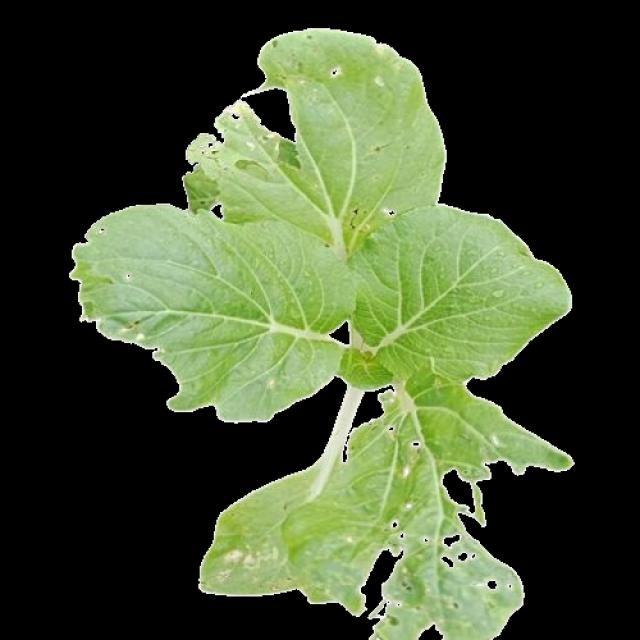mature: (66, 34, 568, 640)
unhealthy: (206, 385, 568, 636), (69, 205, 356, 420), (191, 36, 444, 228)
